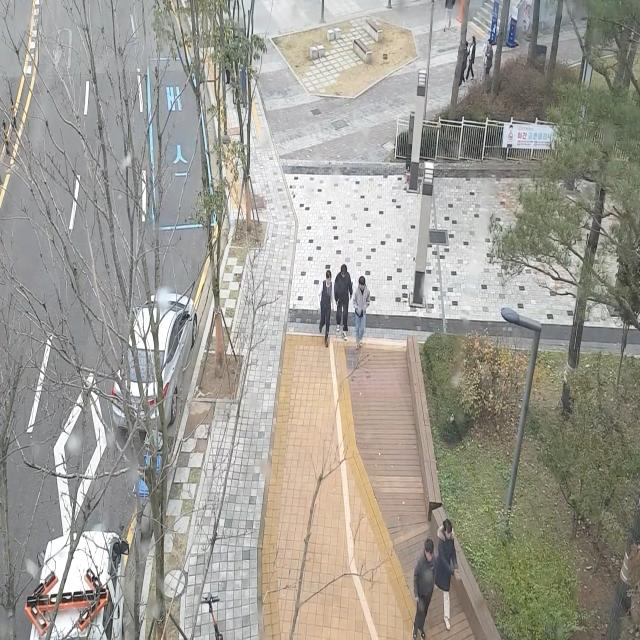Car: (95, 271, 211, 450)
Truck: (17, 491, 131, 640)
